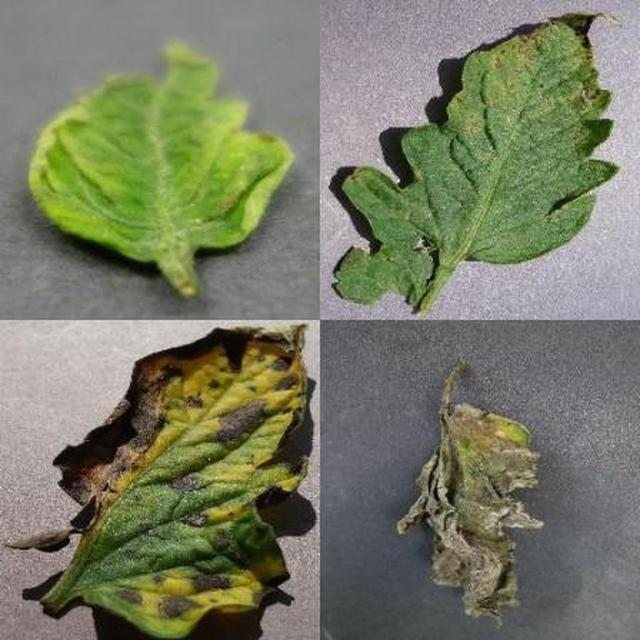Yellow Leaf Curl Virus: (204, 217, 640, 640)
